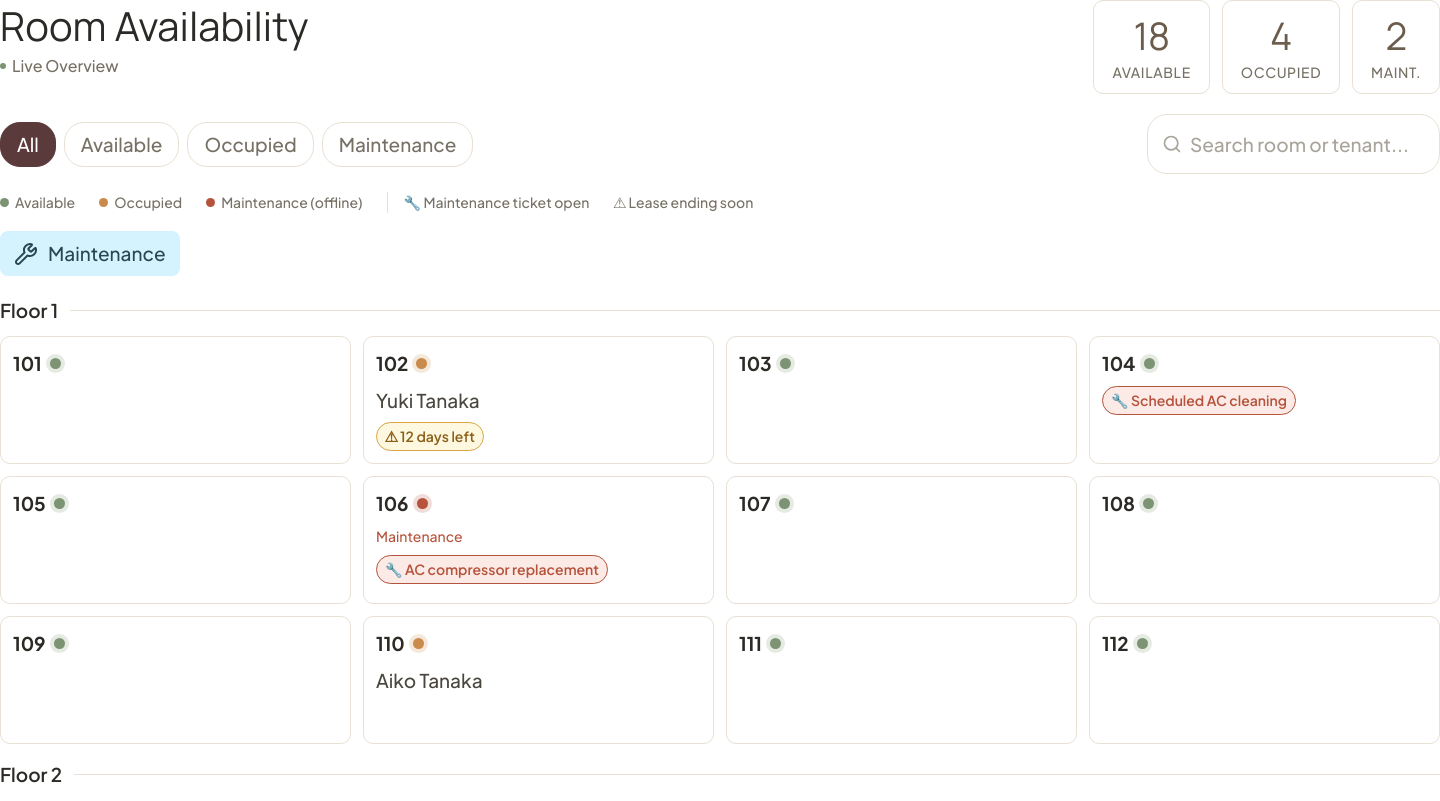
it: US-09 open a room for the next action › S1 opens the lease creation form for an available room
This screenshot has width=1440, height=801.
Click the button named "Unit 101": (27, 363) [0,336,351,464]
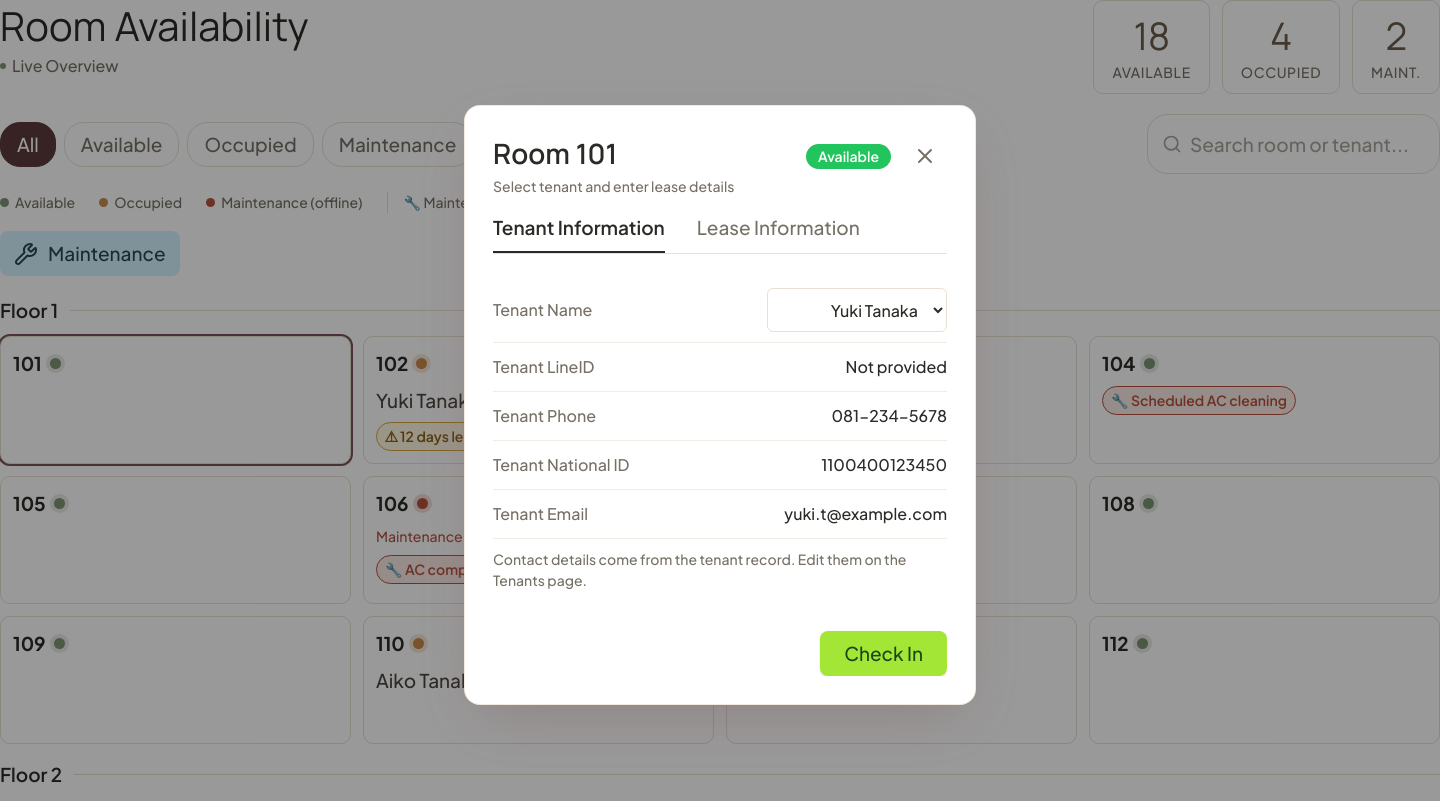
Expected: the heading "Room 101" is shown, [493,134,617,172]
Expected: the button "Check In" is shown, [820,631,947,676]
Expected: the dropdown labelled "Tenant Name" is shown, [767,288,947,332]
